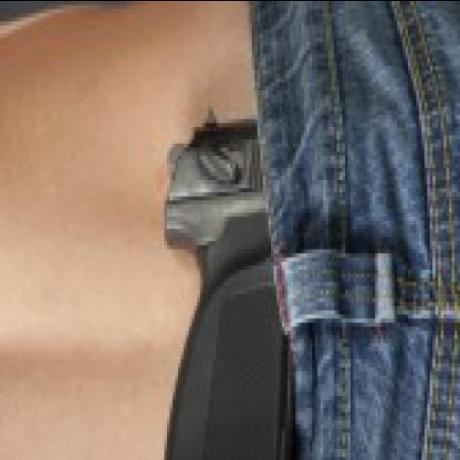weapon: (153, 101, 308, 460)
